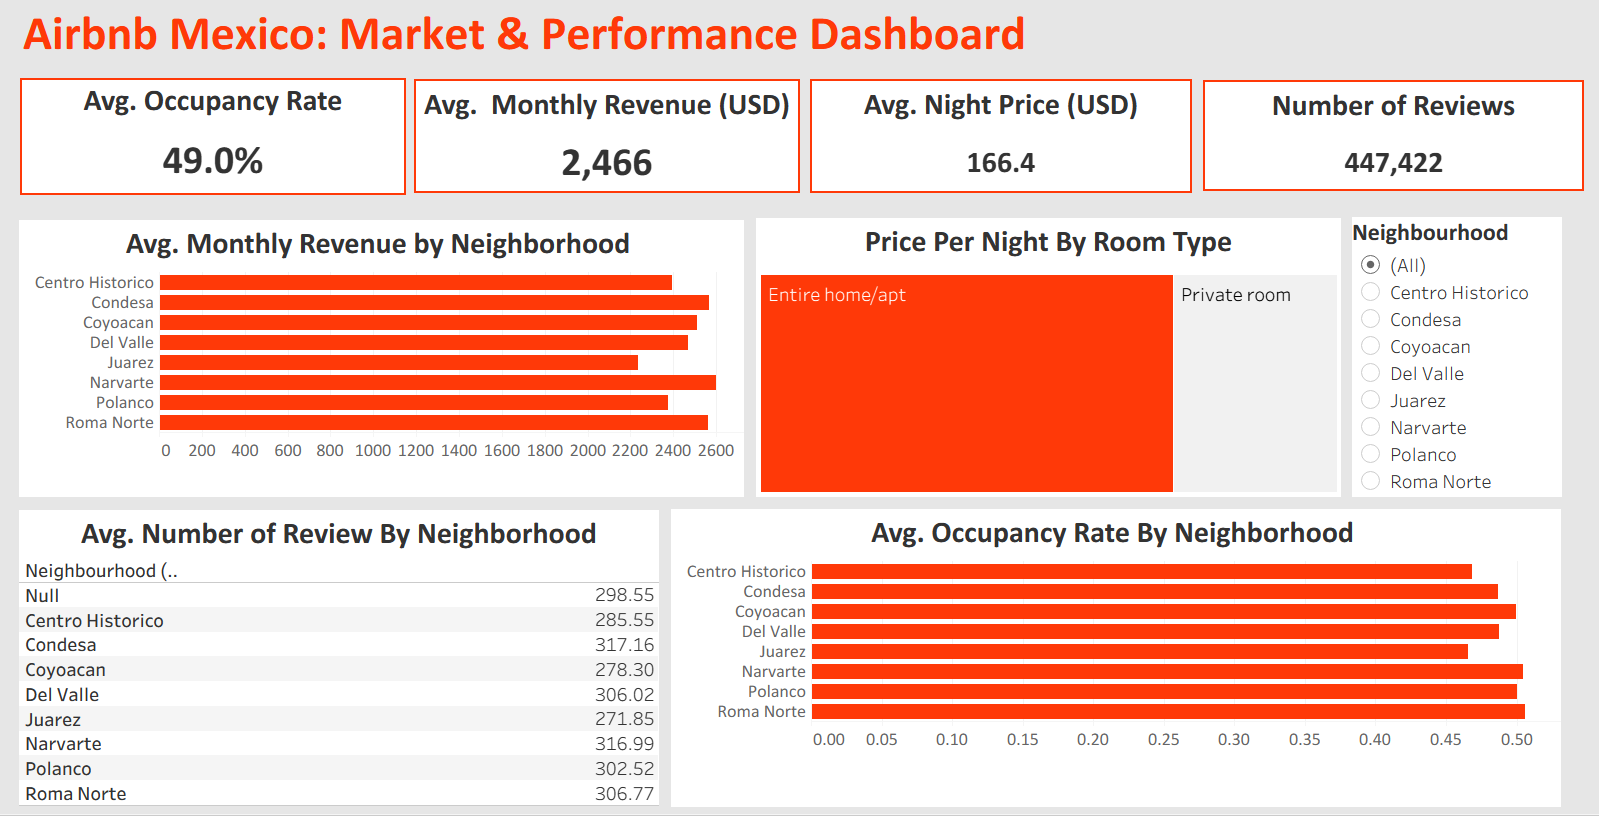

The dashboard page shown, as its layout file describes it:
{"tool":"tableau","page":{"name":"AIRBNB DASHBOARD","canvas":[1000,1000],"units":"permille","ordinal":0},"visuals":[{"type":"text","box":[14.7,3.6,638.1,81.5]},{"type":"worksheet","title":"Average Occupancy Rate","mark":"Automatic","box":[15.6,99.6,240.7,143.1]},{"type":"worksheet","title":"Average monthly revenue","mark":"Automatic","box":[261.5,101.5,240.7,139.5]},{"type":"worksheet","title":"Sheet 8","mark":"Automatic","box":[508.2,101.5,238.1,139.5]},{"type":"worksheet","title":"Sheet 9","mark":"Automatic","box":[753.2,103.3,237.2,135.9]},{"type":"filter","title":"Monthly rev. by neighborhood","param":"[federated.11w4udq09vjnnx1h8ddif08e1h1c].[none:neighbourhood (neighborhood_kpis.","box":[845.9,269.9,130.7,342.4]},{"type":"worksheet","title":"Sheet 7","mark":"Automatic","box":[474.5,271.7,364.5,340.6]},{"type":"worksheet","title":"Monthly rev. by neighborhood","mark":"Automatic","rows":["neighbourhood (neighborhood_kpis.csv)"],"cols":["estimated_monthly_revenue (neighborhood_kpis.csv)"],"box":[14.7,273.6,451.9,338.8]},{"type":"worksheet","title":"Occupancy Rate by Neighborhood","mark":"Automatic","rows":["neighbourhood (neighborhood_kpis.csv)"],"cols":["occupancy_rate (neighborhood_kpis.csv)"],"box":[421.7,626.8,555,364.1]},{"type":"worksheet","title":"Revenue & Occupancy Performance by Neighborhood","mark":"Automatic","rows":["neighbourhood (neighborhood_kpis.csv)"],"box":[14.7,628.6,399.1,362.3]}]}

Visuals, with their boxes on the dashboard's canvas, which has no fixed pixel size, in thousandths of its width and height (x1, y1, x2, y2). These are canvas units, not pixel positions in the 1599x816 screenshot, which may show the page scaled, cropped or inside an application window:
text: <box>15,4,653,85</box>
"Average Occupancy Rate" worksheet: <box>16,100,256,243</box>
"Average monthly revenue" worksheet: <box>262,102,502,241</box>
"Sheet 8" worksheet: <box>508,102,746,241</box>
"Sheet 9" worksheet: <box>753,103,990,239</box>
"Monthly rev. by neighborhood" filter: <box>846,270,977,612</box>
"Sheet 7" worksheet: <box>474,272,839,612</box>
"Monthly rev. by neighborhood" worksheet: <box>15,274,467,612</box>
"Occupancy Rate by Neighborhood" worksheet: <box>422,627,977,991</box>
"Revenue & Occupancy Performance by Neighborhood" worksheet: <box>15,629,414,991</box>
